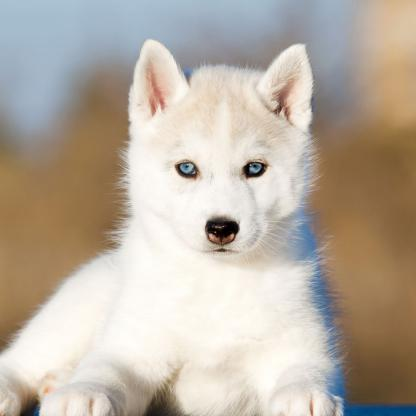dog: (0, 38, 343, 416)
